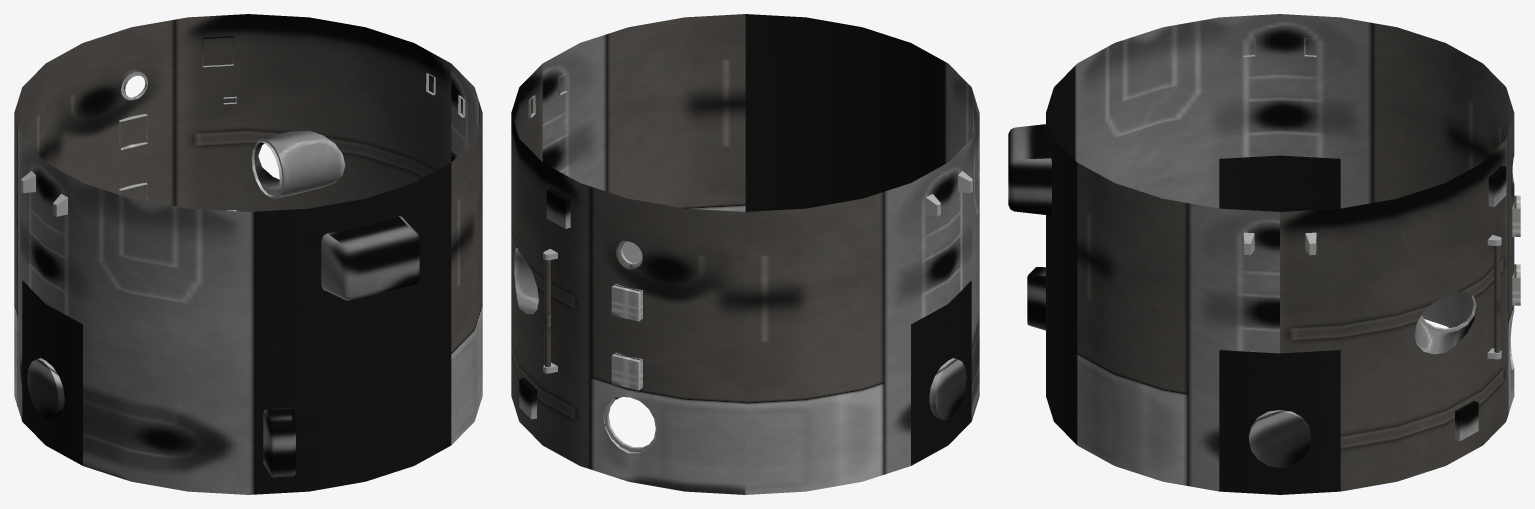
The model's file is spektr lab.obj.
3 views of the same model, side by side, from view 1: azimuth 30°, elevation 25°; view 2: azimuth 150°, elevation 25°; view 3: azimuth 270°, elevation 25° (orthographic).
Visible parts, largest first — view 1: 1.005; view 2: 1.005; view 3: 1.005.
Part boxes in pixels (<box>): 1.005: <box>14,14,482,494</box>; 1.005: <box>511,14,979,494</box>; 1.005: <box>1008,14,1520,494</box>.
Size of the model in its own units: 1.94 by 1.25 by 2.05.
